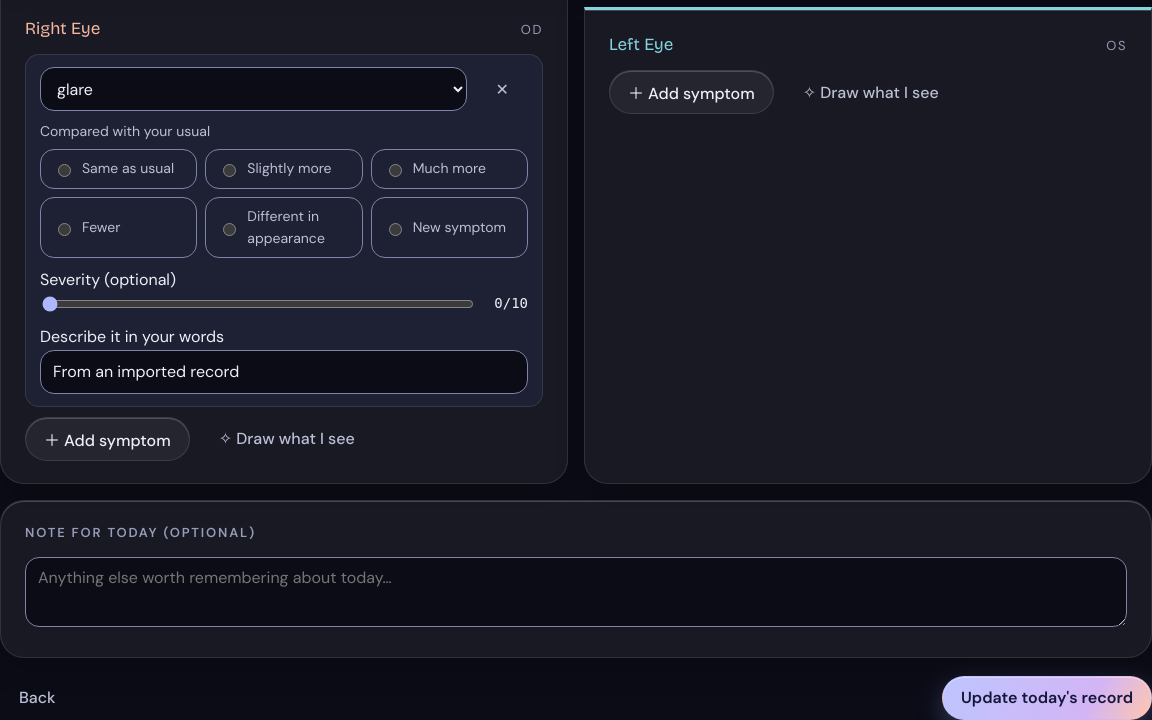
Test: keeps a saved symptom the form cannot fully show — no comparison, both eyes — on update
(page scrolled)
Click the button "Update today's record" at (1047, 698), box [942,676,1151,719]
(page scrolled)
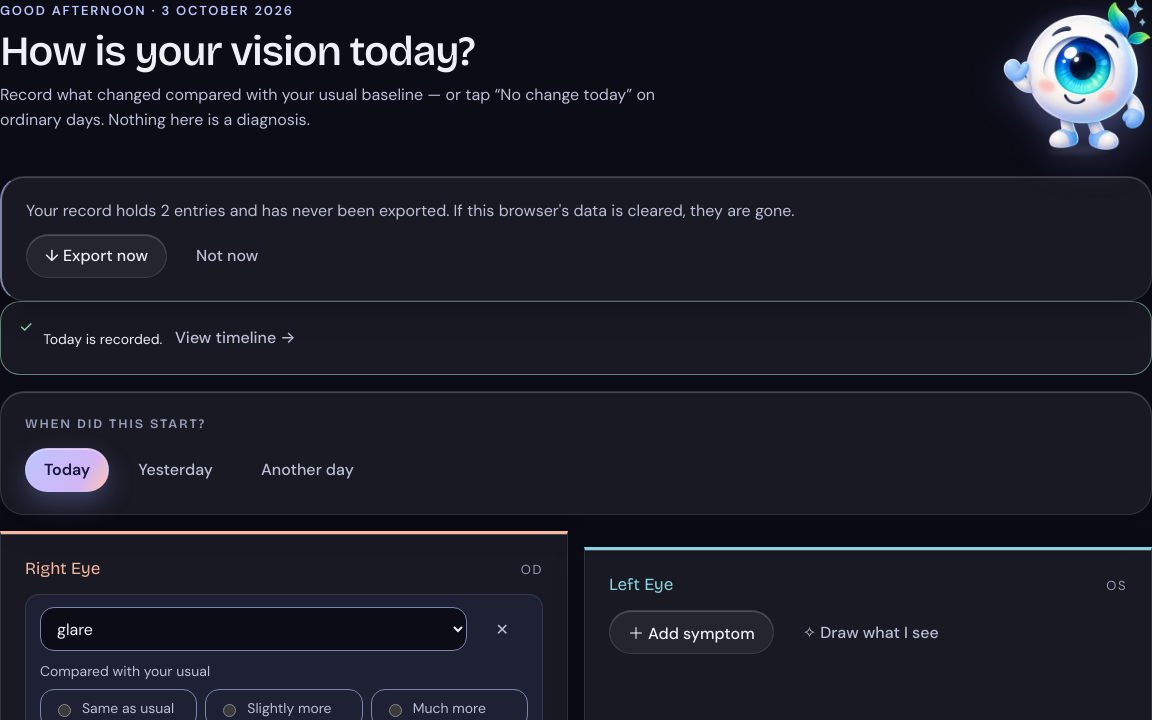
Now the text "Today is recorded. View timeline →" is shown, box [43,316,305,360]
